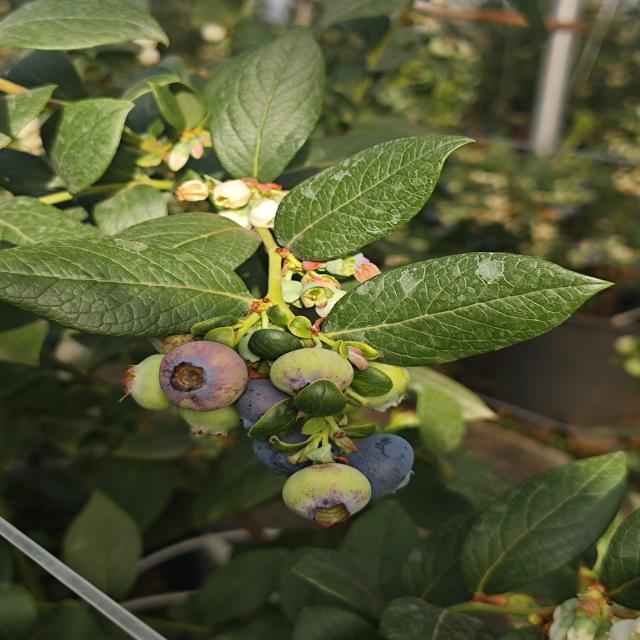ripe: (340, 431, 417, 501), (248, 415, 332, 475), (233, 368, 310, 428)
